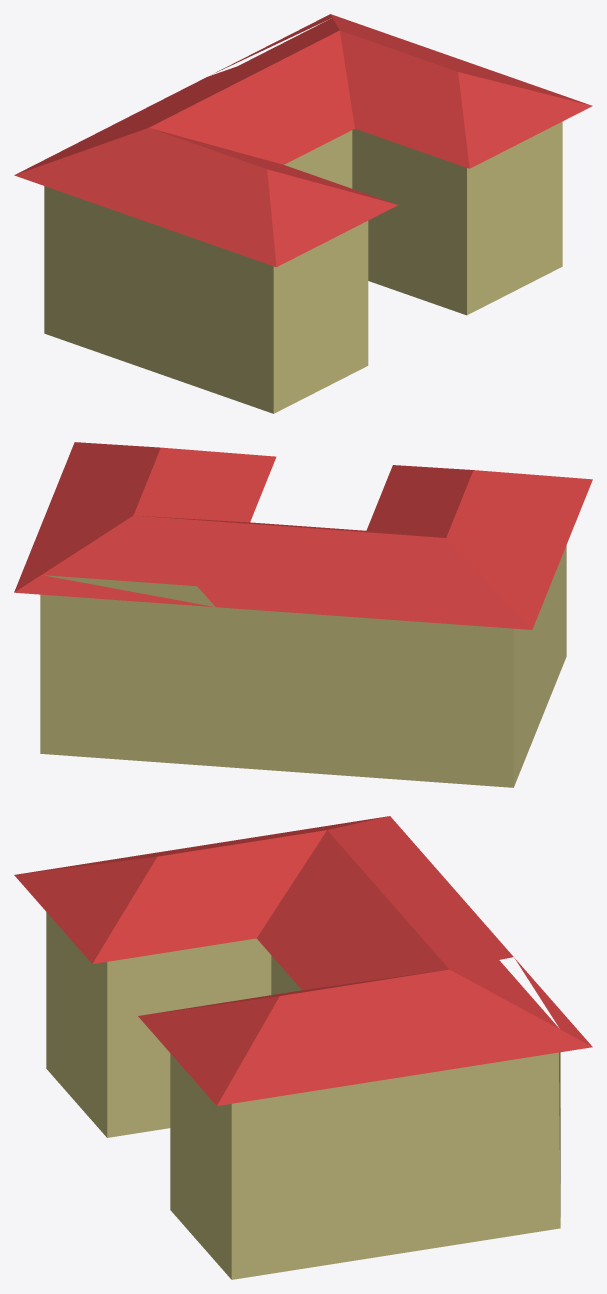
3 renders of one model, top to bottom at view 1: azimuth 30°, elevation 25°; view 2: azimuth 150°, elevation 25°; view 3: azimuth 270°, elevation 25°, orthographic. The views are drawn at different scales.
Size of the model in its own units: 27.24 by 22.97 by 10.31.
